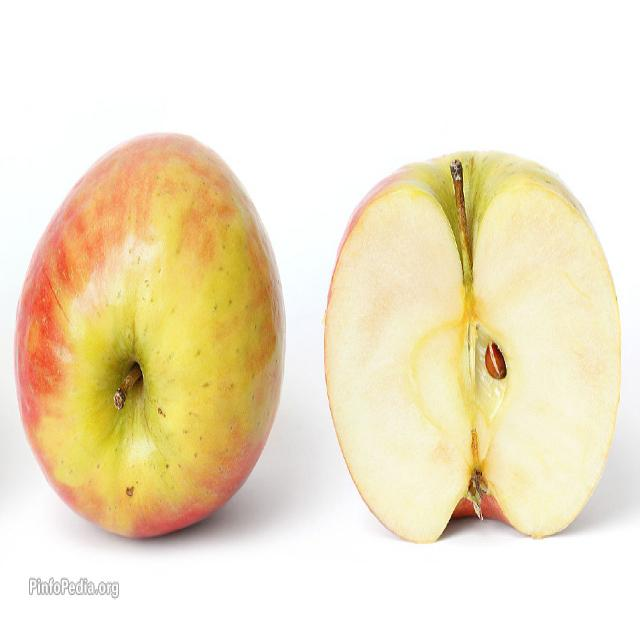apple: (319, 141, 625, 556), (9, 128, 289, 542)
